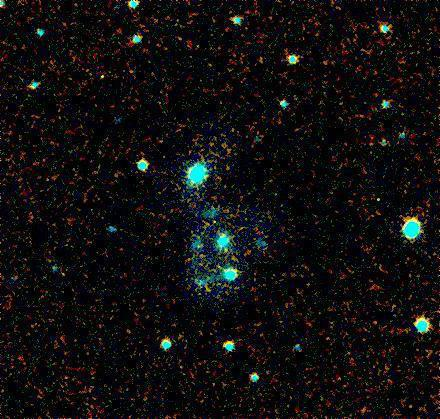star: (199, 206, 229, 236)
